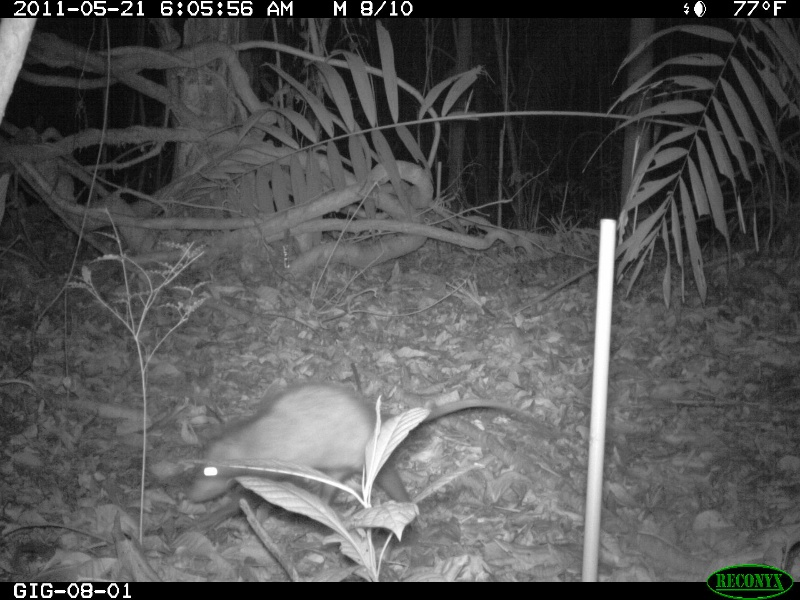opossum: (184, 384, 545, 508)
